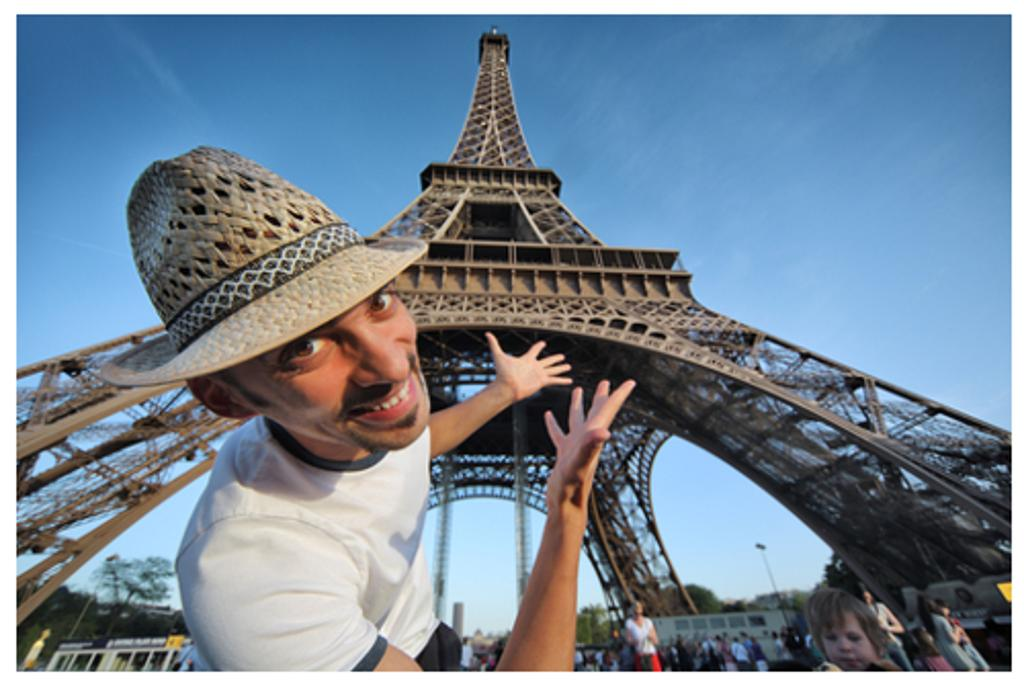face: (246, 286, 430, 444)
